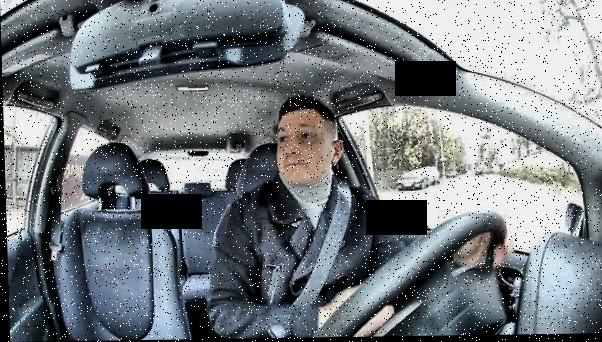seatbelt: (280, 167, 359, 312), (40, 172, 75, 298)
